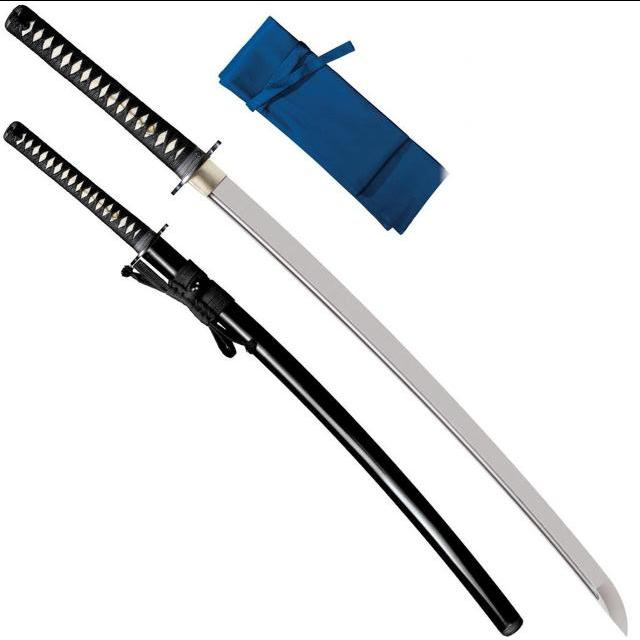katana: (6, 6, 631, 637), (2, 113, 526, 640)
